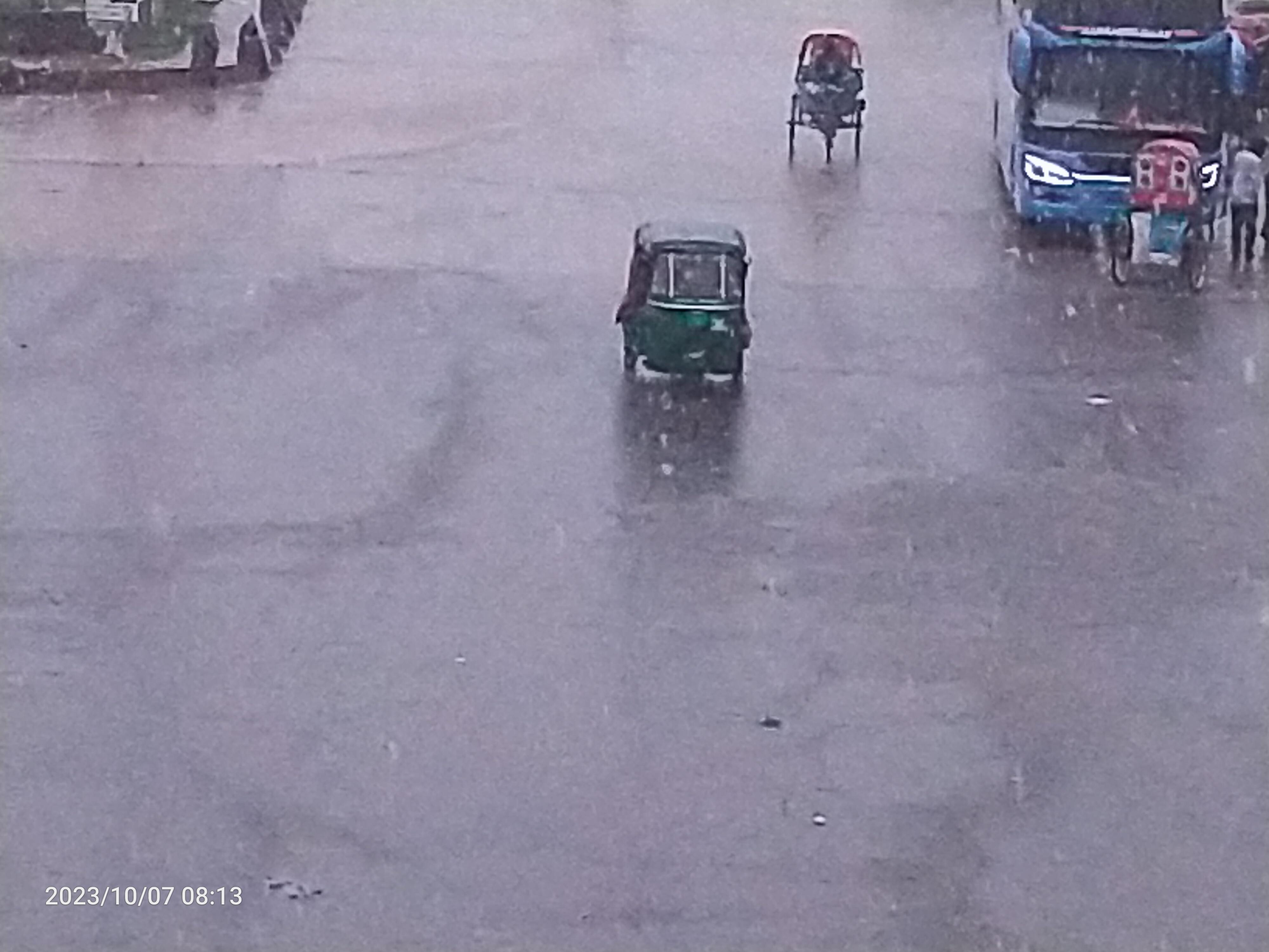Bus: (974, 1, 1269, 254)
Car: (1095, 128, 1260, 331), (771, 18, 885, 193)
